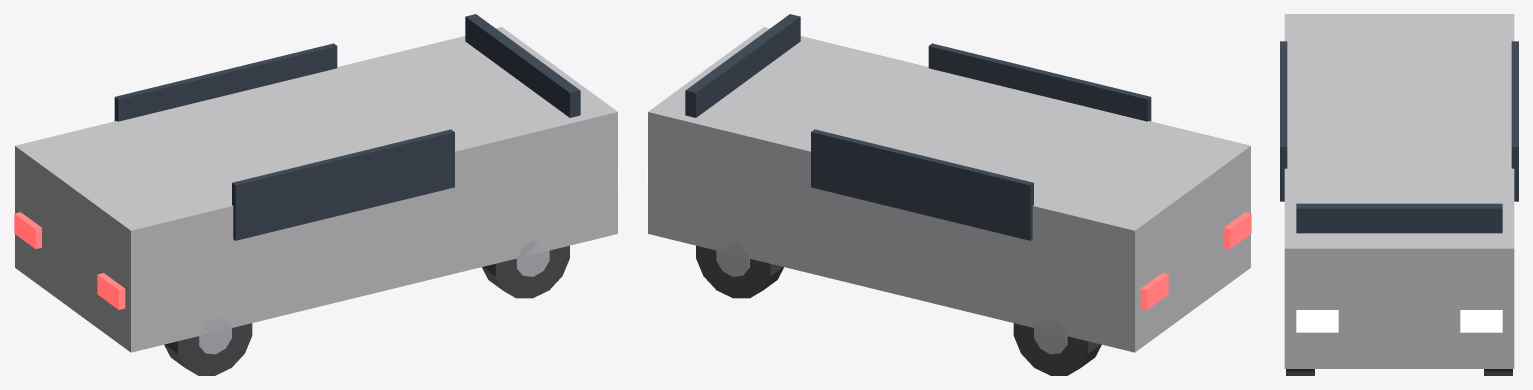
Rendered from bt-car-van.glb.
The picture shows the model from 3 angles, left to right: view 1: azimuth 30°, elevation 25°; view 2: azimuth 150°, elevation 25°; view 3: azimuth 270°, elevation 25°; orthographic projection.
Parts seen in each view (by area): view 1: body, sideglass2, sideglass, windshield, wheel_0_-1, wheel_1_-1, hub_1_-1, hub_0_-1, tail_-1, tail_1; view 2: body, sideglass, sideglass2, windshield, wheel_0_1, wheel_1_1, hub_1_1, hub_0_1, tail_1, tail_-1; view 3: body, windshield, sideglass, sideglass2, head_1, head_-1.
Boxes of the visible parts, x1=… form: body: x1=15, y1=27, x2=617, y2=352; sideglass2: x1=232, y1=129, x2=454, y2=240; sideglass: x1=114, y1=43, x2=337, y2=121; windshield: x1=465, y1=14, x2=580, y2=117; wheel_0_-1: x1=482, y1=245, x2=569, y2=298; wheel_1_-1: x1=164, y1=323, x2=252, y2=375; hub_1_-1: x1=198, y1=318, x2=231, y2=354; hub_0_-1: x1=516, y1=241, x2=549, y2=276; tail_-1: x1=97, y1=273, x2=125, y2=309; tail_1: x1=14, y1=212, x2=41, y2=248; body: x1=648, y1=27, x2=1250, y2=352; sideglass: x1=811, y1=129, x2=1033, y2=240; sideglass2: x1=928, y1=43, x2=1151, y2=121; windshield: x1=685, y1=14, x2=800, y2=117; wheel_0_1: x1=696, y1=245, x2=783, y2=298; wheel_1_1: x1=1013, y1=323, x2=1101, y2=375; hub_1_1: x1=1034, y1=318, x2=1067, y2=354; hub_0_1: x1=716, y1=241, x2=749, y2=276; tail_1: x1=1140, y1=273, x2=1168, y2=309; tail_-1: x1=1224, y1=212, x2=1251, y2=248; body: x1=1284, y1=14, x2=1514, y2=368; windshield: x1=1296, y1=203, x2=1502, y2=233; sideglass: x1=1511, y1=41, x2=1518, y2=201; sideglass2: x1=1280, y1=41, x2=1287, y2=201; head_1: x1=1460, y1=310, x2=1502, y2=332; head_-1: x1=1296, y1=310, x2=1338, y2=332.
Bounding box in the file's own units: 4.72 × 1.73 × 1.98.
